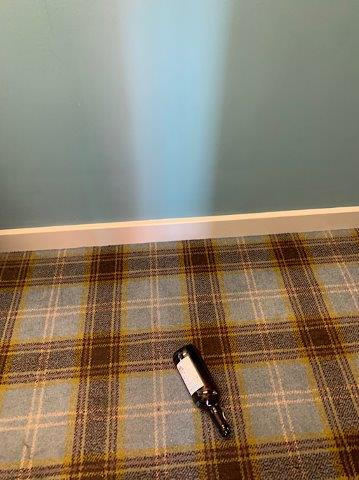botolkaca: (174, 345, 231, 437)
